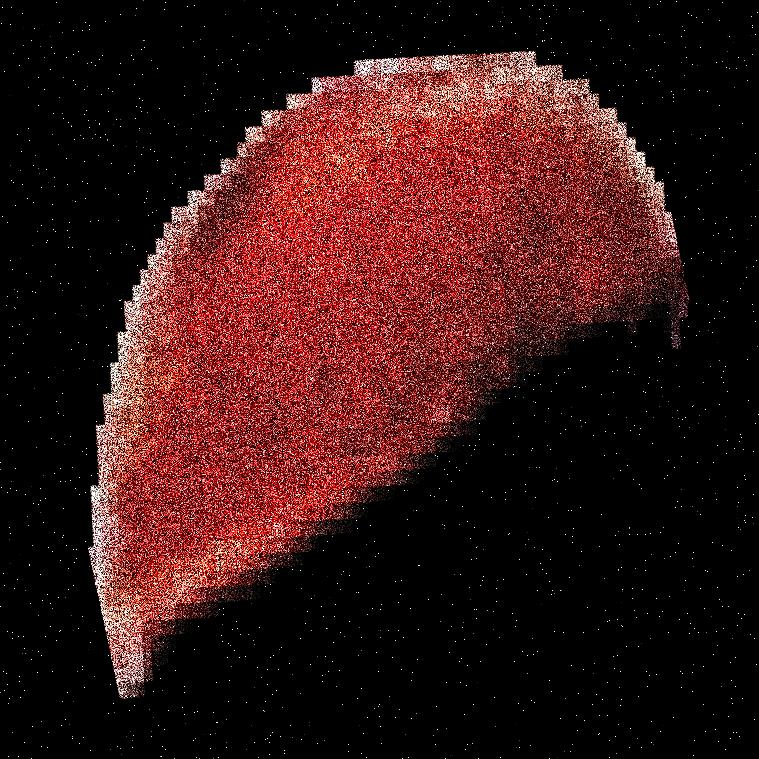Capacete: (193, 0, 547, 758)
